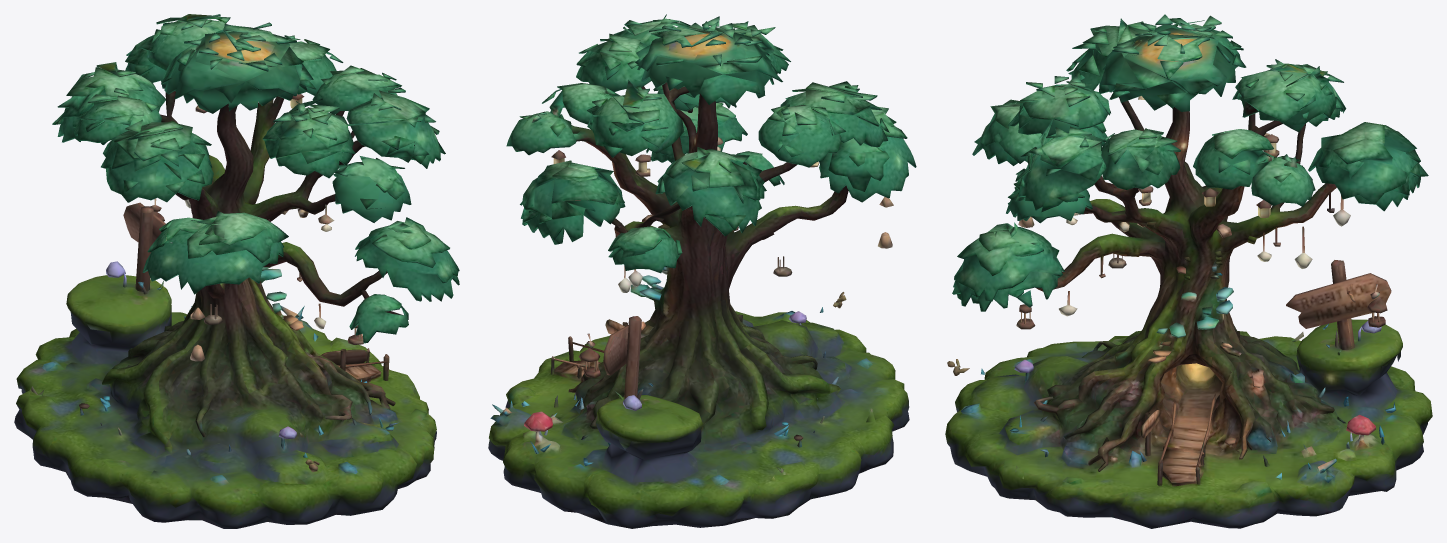
Rendered from tree_small.glb.
The picture shows the model from 3 angles, left to right: view 1: azimuth 30°, elevation 25°; view 2: azimuth 150°, elevation 25°; view 3: azimuth 270°, elevation 25°; orthographic projection. The views are drawn at different scales.
Parts seen in each view (by area): view 1: tripo_node_426c1945-e4f4-450e-bc99-7dd34d875f3c; view 2: tripo_node_426c1945-e4f4-450e-bc99-7dd34d875f3c; view 3: tripo_node_426c1945-e4f4-450e-bc99-7dd34d875f3c.
Part boxes in pixels (x1,y1,x2,y2): tripo_node_426c1945-e4f4-450e-bc99-7dd34d875f3c: [14, 14, 459, 528]; tripo_node_426c1945-e4f4-450e-bc99-7dd34d875f3c: [488, 14, 916, 528]; tripo_node_426c1945-e4f4-450e-bc99-7dd34d875f3c: [945, 14, 1432, 528].
Bounding box in the file's own units: 0.8317 × 0.9374 × 0.9941.
Materials: 1 (1 with a texture image).
